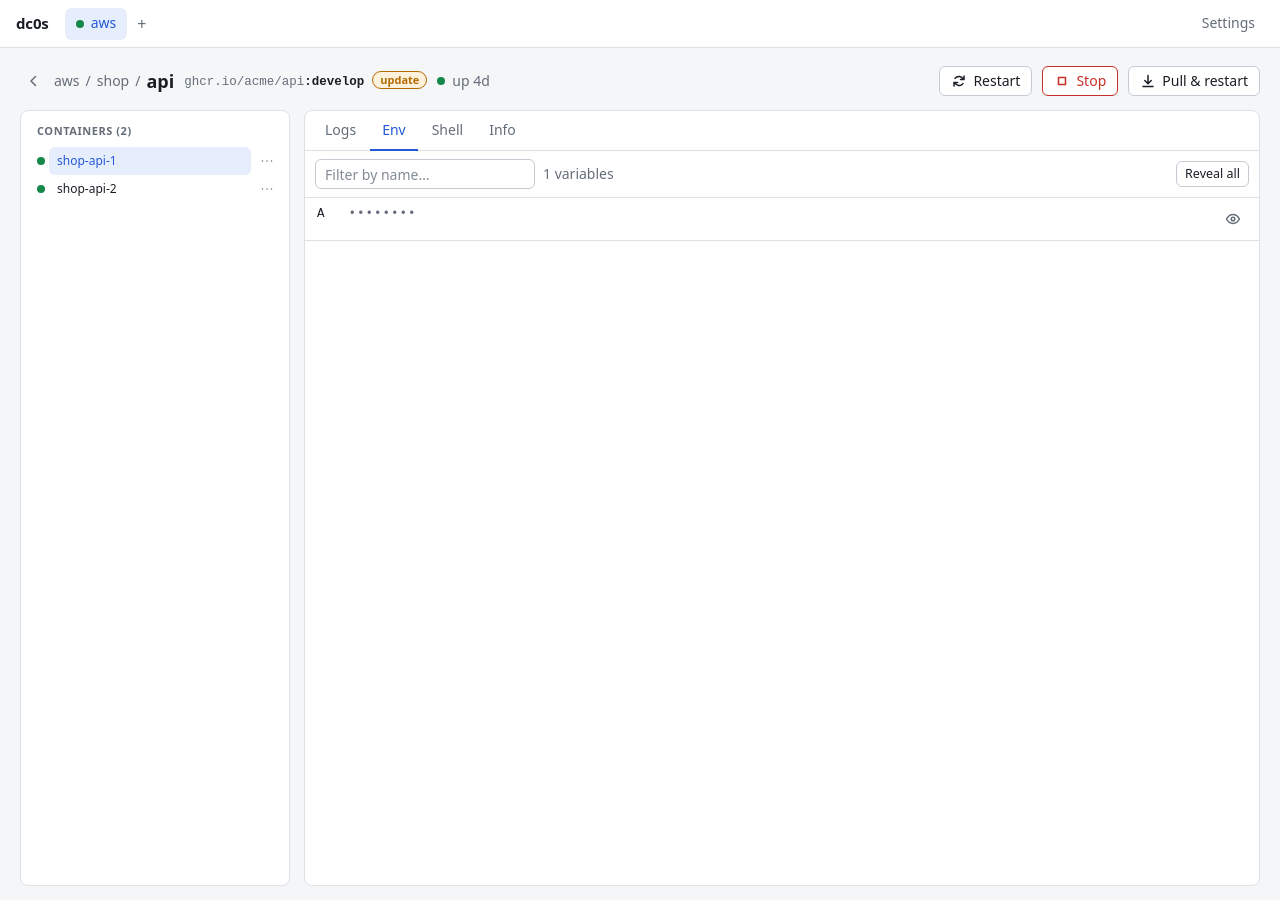
Scenario: ServicePage › a failed refresh keeps the page and says so
Expected: the row "A ••••••••" is shown, [305,198,1259,241]
# Finishing an action makes the page refresh.
Click the button "Restart".
click(986, 81)  # box [939,66,1032,96]
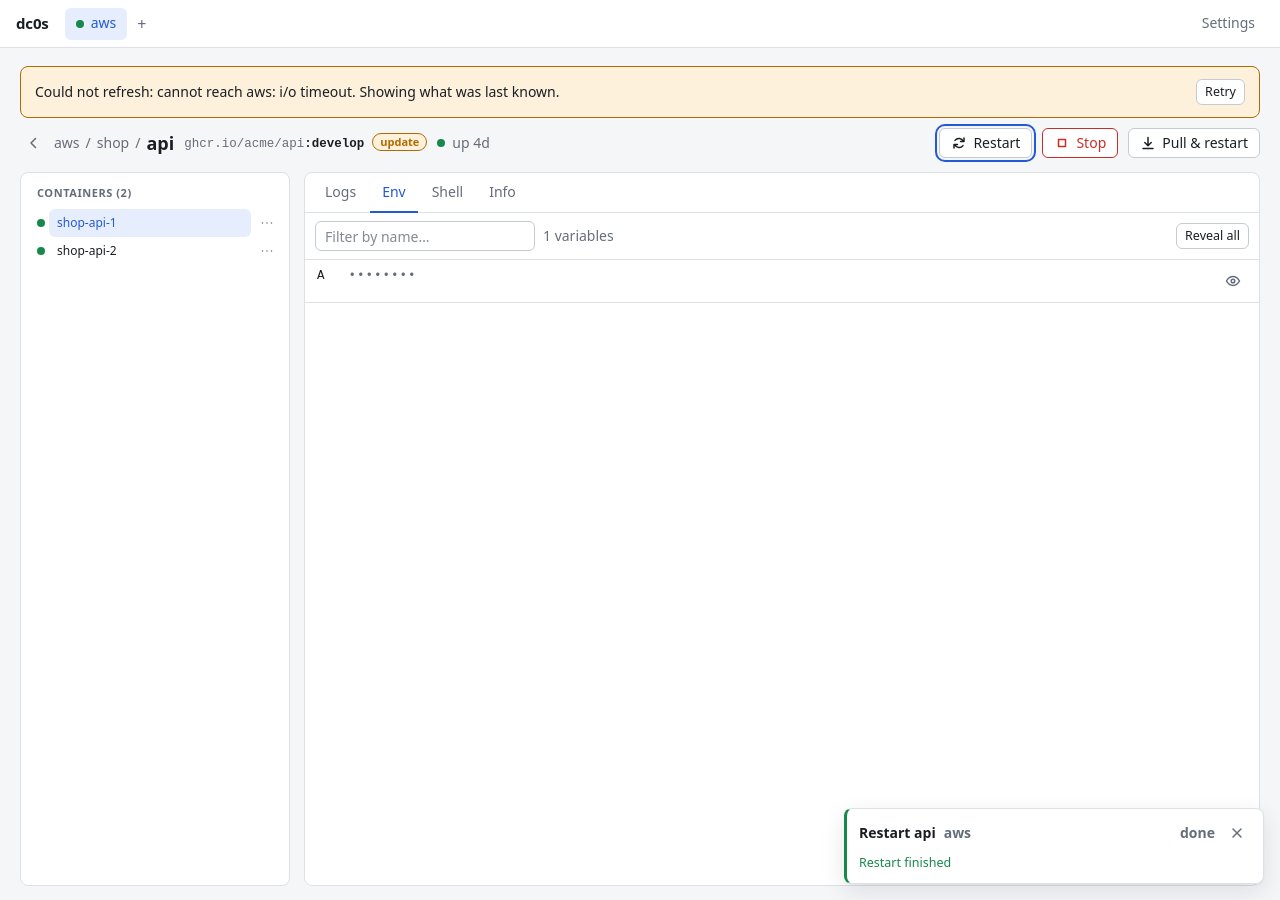
Expected: the heading "api" is shown, [146,130,174,156]
Expected: the text "Could not refresh" shows "i/o timeout", [157,82,352,101]
Click the button "Retry".
click(1221, 92)  # box [1196,79,1245,105]
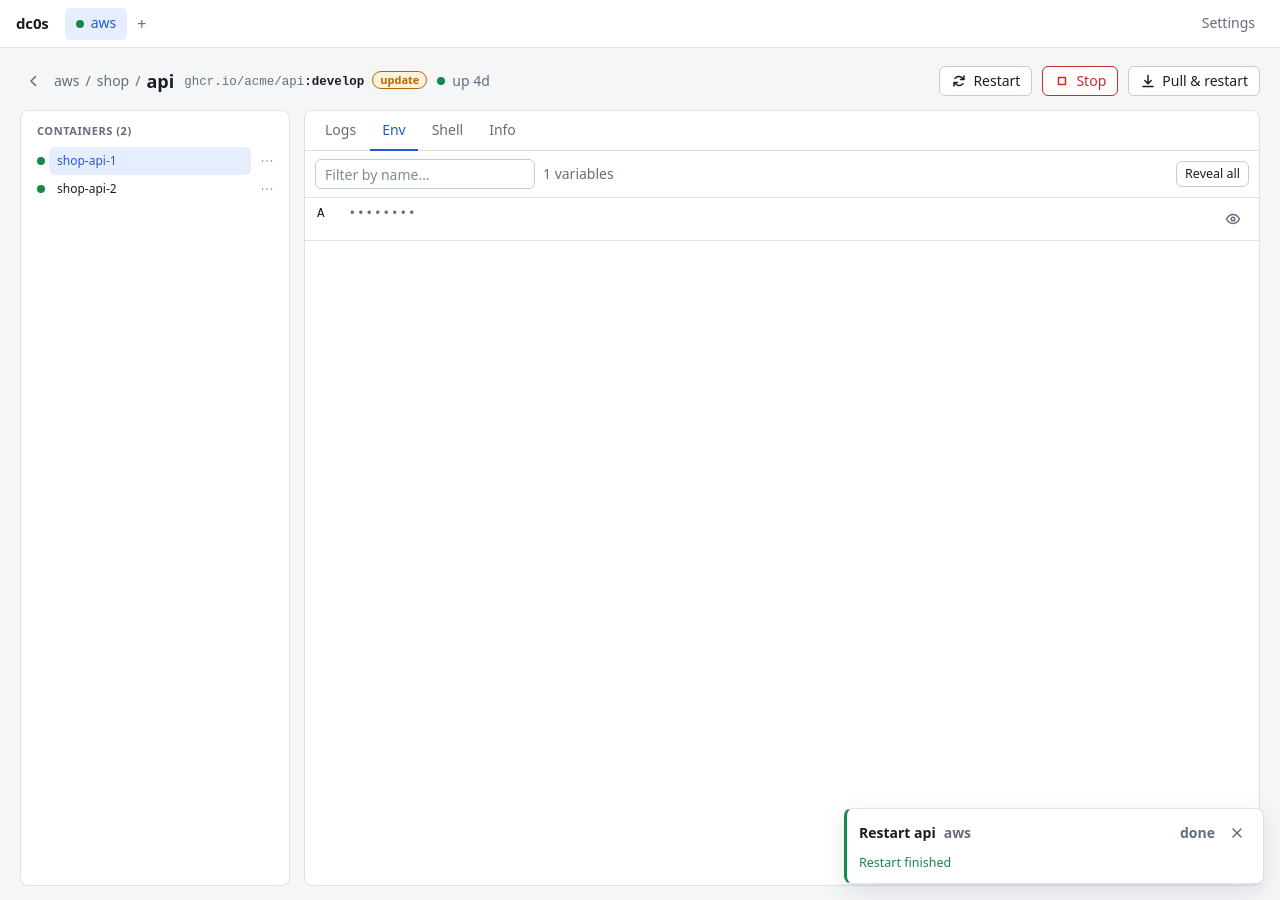
Expected: the text "Could not refresh" is gone
